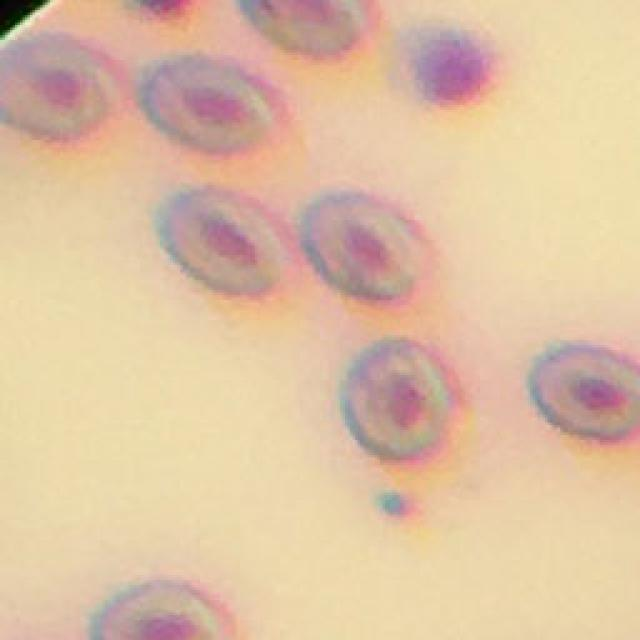RBC: (152, 181, 302, 303), (300, 188, 442, 310), (337, 336, 464, 466), (135, 54, 292, 158), (0, 29, 130, 146), (525, 339, 640, 448), (88, 575, 238, 640), (239, 0, 386, 61)
WBC: (402, 25, 500, 109)
